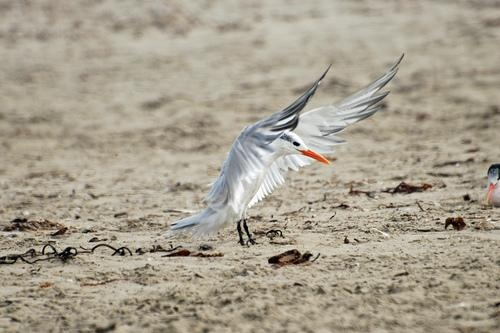bird: (165, 51, 406, 247)
